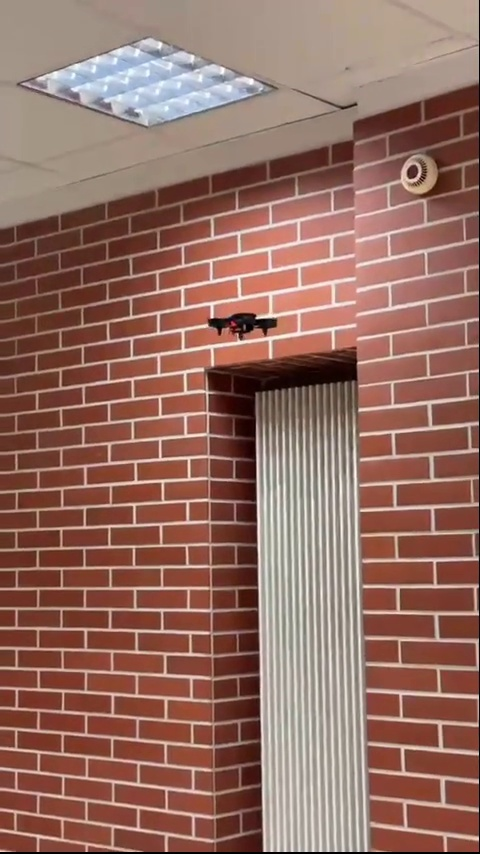drone: (202, 312, 282, 340)
